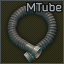Military corrugated tube: (0, 0, 64, 64)
